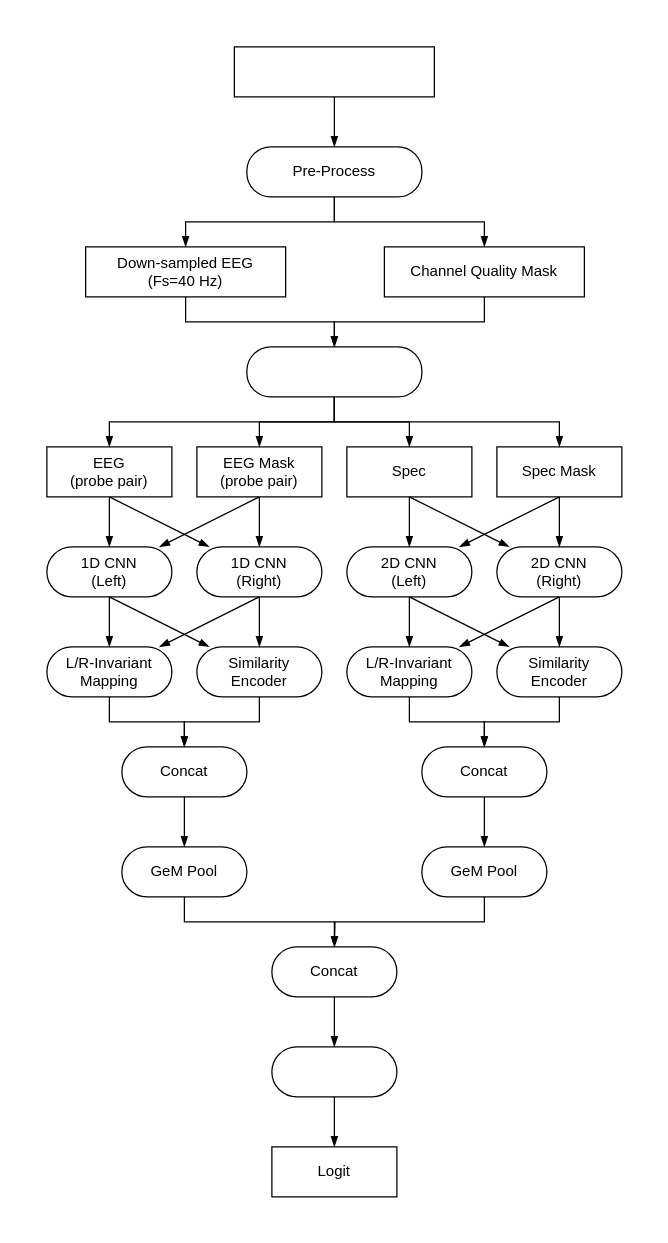
This 668x1243 diagram has some shape labels left out. Each missing label, with the box of its shape:
Feature Extractor: (246, 346, 422, 397)
Head: (271, 1046, 397, 1097)
Raw EEG (Fs=200Hz): (233, 46, 434, 97)
